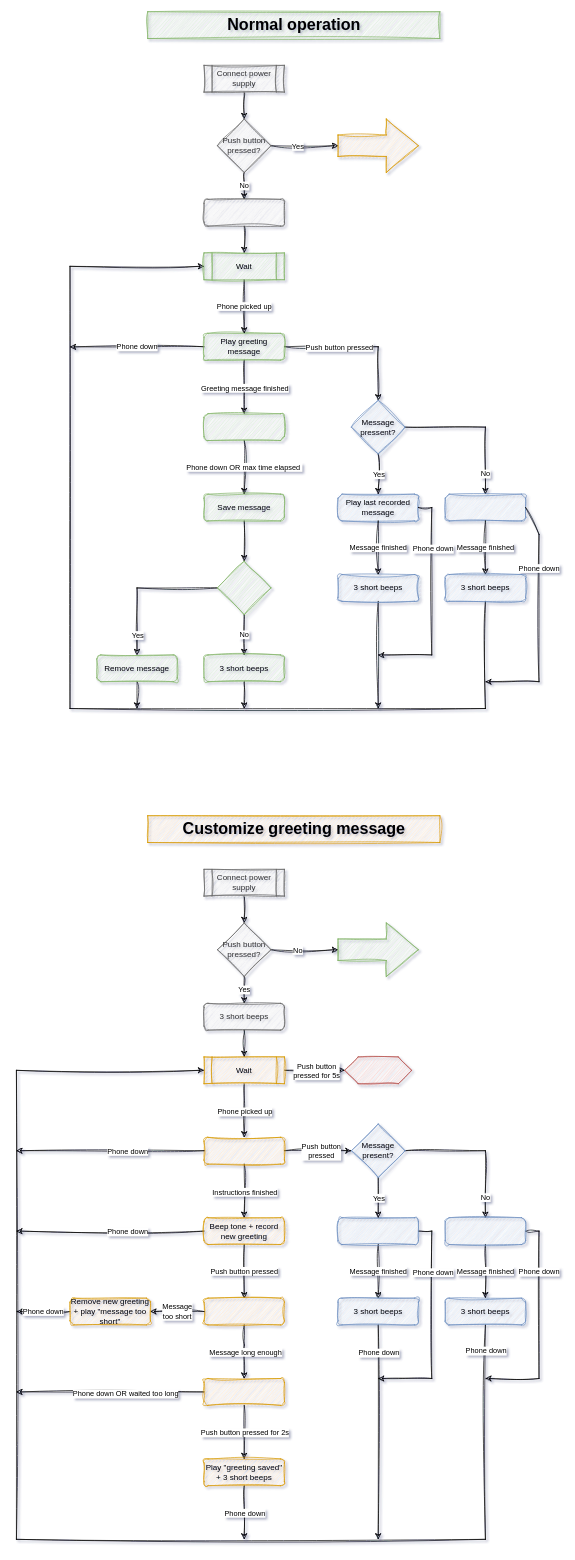
Some shapes in this 575 by 1560 pixel diagram are drawn without their labels. The shapes that lost their labels are listed below. From the top down, each one's centre as x and y in pixels, then its label:
(x=377, y=145): See customize greeting message
(x=243, y=212): 1 Long beep (1s)
(x=243, y=427): Beep tone (0.5s) record message
(x=485, y=507): Play "No new message"
(x=244, y=587): Message to short?
(x=377, y=949): See normal operation
(x=378, y=1070): Activate Media Transfer
(x=243, y=1150): Play instructions
(x=377, y=1231): Play "Greeting"
(x=485, y=1231): Play "standard greeting"
(x=243, y=1311): Save new greeting
(x=243, y=1391): Replay new greeting + play "confirm new greeting"
